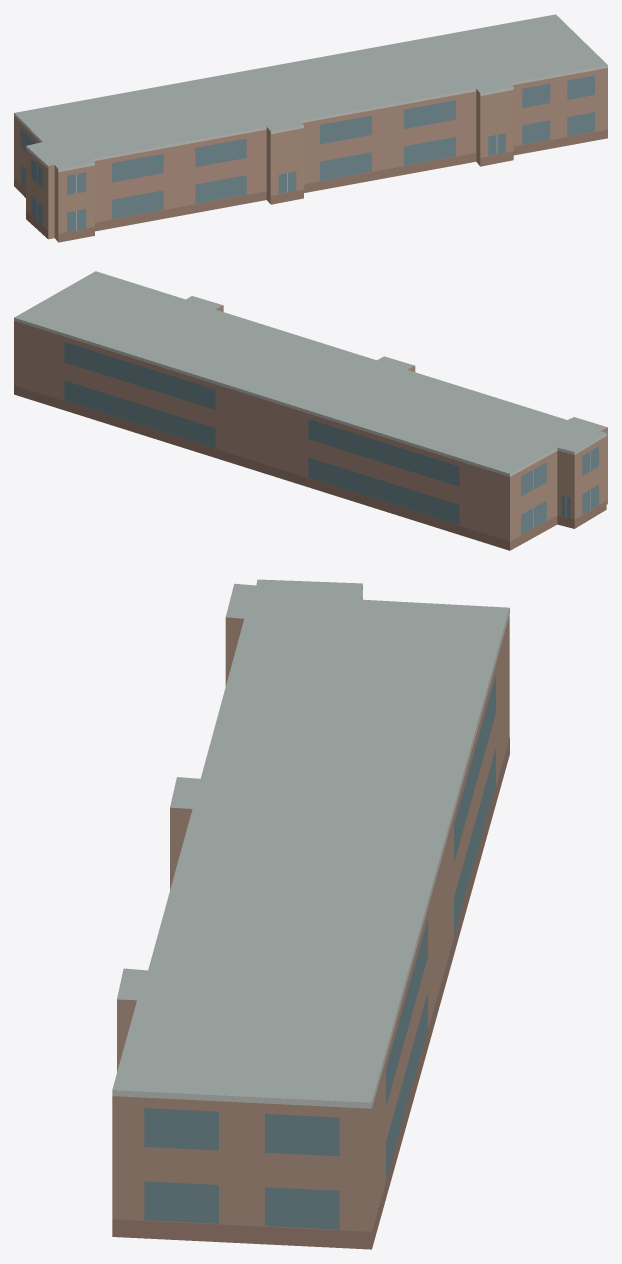
Rendered from survey-upis-32532452.glb.
3 renders of one model, top to bottom at view 1: azimuth 30°, elevation 25°; view 2: azimuth 150°, elevation 25°; view 3: azimuth 270°, elevation 25°, orthographic. The views are drawn at different scales.
Parts seen in each view (by area): view 1: survey-upis-32532452.tmp; view 2: survey-upis-32532452.tmp; view 3: survey-upis-32532452.tmp.
Boxes of the visible parts, bbox=[...] form: survey-upis-32532452.tmp: bbox=[14, 14, 607, 242]; survey-upis-32532452.tmp: bbox=[14, 271, 607, 550]; survey-upis-32532452.tmp: bbox=[112, 579, 509, 1249].
Bounding box in the file's own units: 46.71 × 6.1 × 15.
